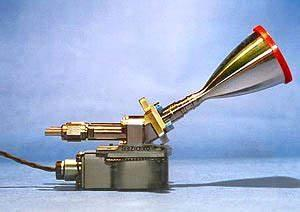thruster: (173, 26, 293, 120)
